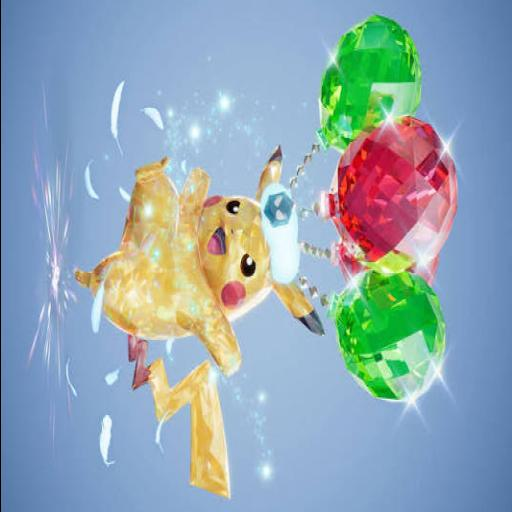Pikachu: (72, 143, 322, 500)
